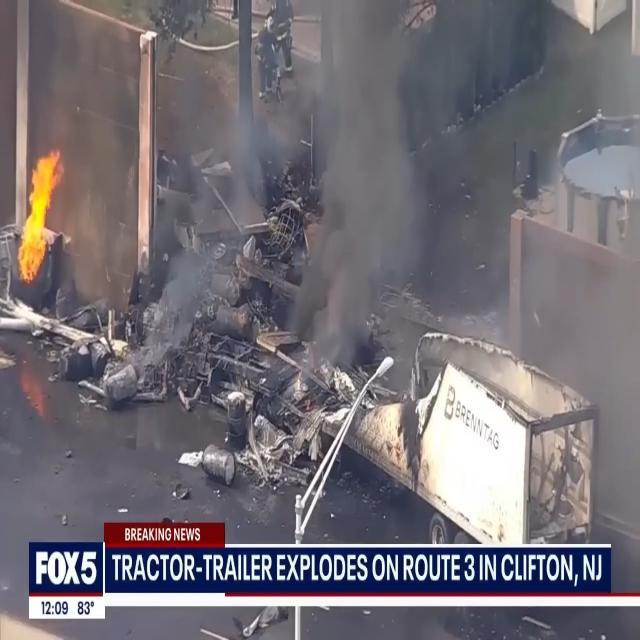fire: (12, 138, 66, 289)
